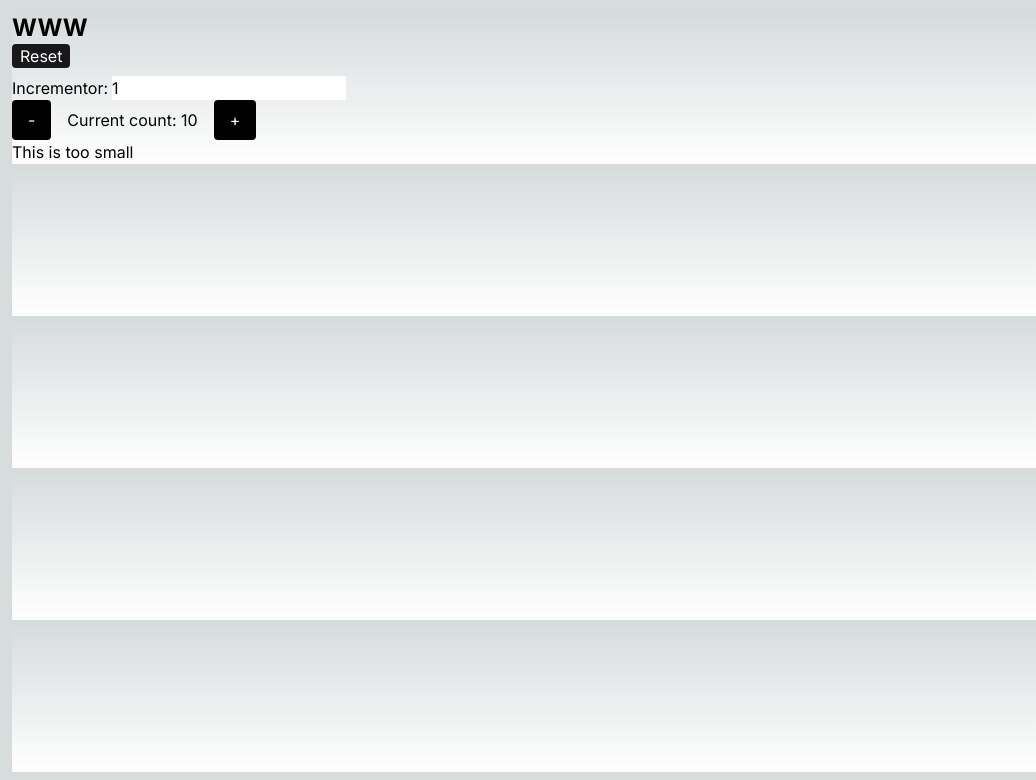
Scenario: Counter Component › defaultCounter = 10, description="WWW" › When the reset click the Current Count = 0 › it renders: Current Count: 0
This screenshot has width=1036, height=780.
Click the button "Reset". click: (41, 56)
box: [12,44,70,68]
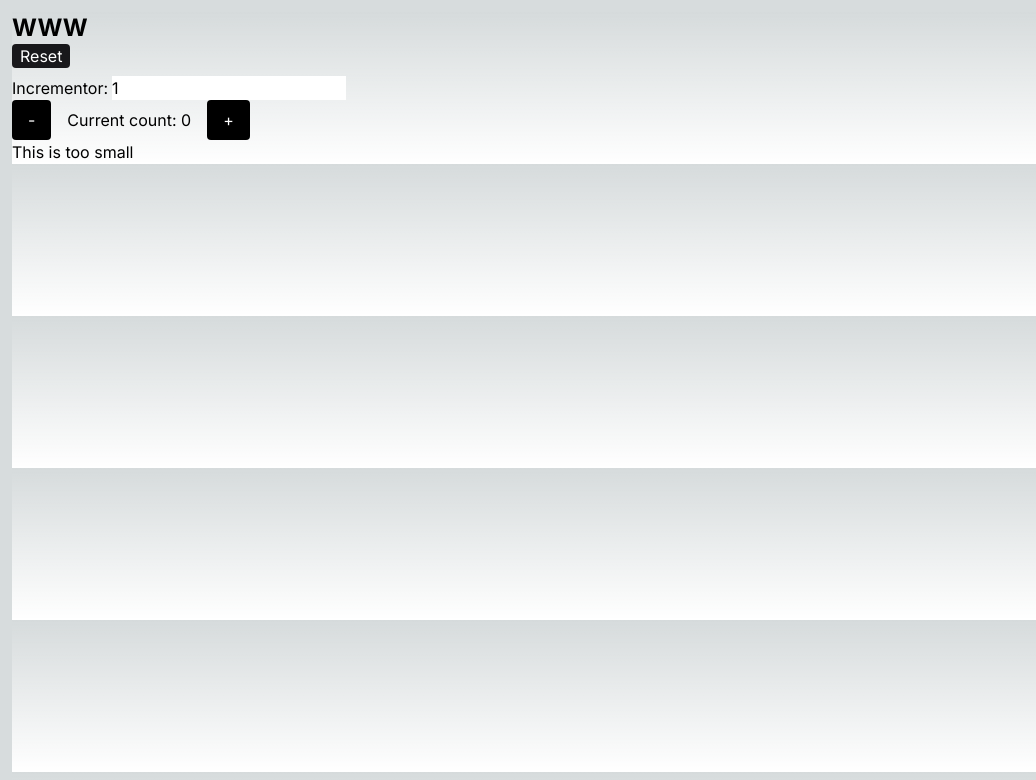
Now the text "Current count: 0" is shown, box [67,108,191,132]
